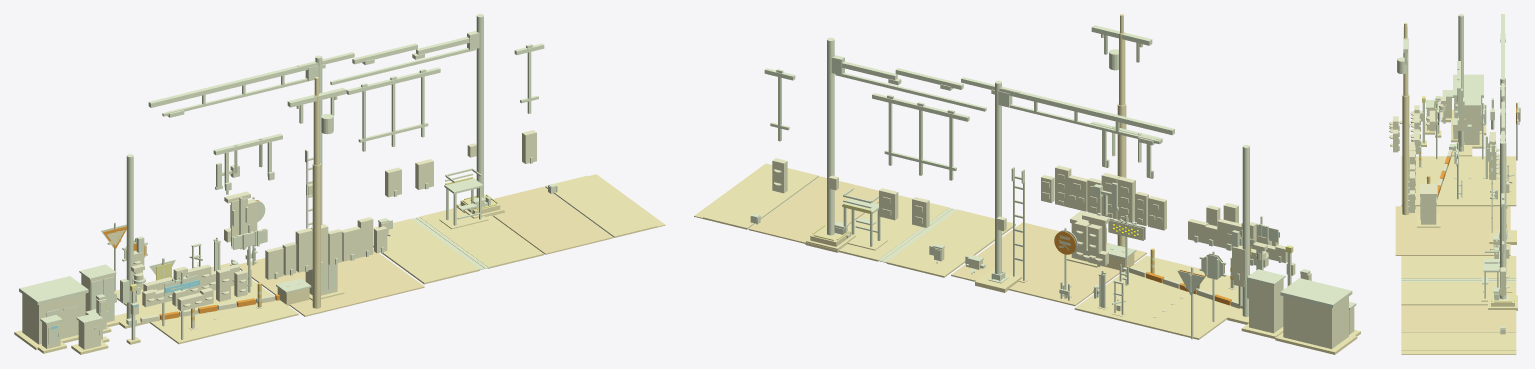
File: scene_night_retroreflection.glb
3 views of the same model, side by side, from view 1: azimuth 30°, elevation 25°; view 2: azimuth 150°, elevation 25°; view 3: azimuth 270°, elevation 25° (orthographic). The views are drawn at different scales.
Parts seen in each view (by area): view 1: base (×2), approach_lane, deck_left, deck_right, approach_slab, housing (×5), mast (×2), body (×2), shaft_lower, roof, truss_top, lower_brace (+3 smaller); view 2: base (×2), deck_left, mast (×3), approach_lane, approach_slab, body, deck_right, housing (×3), cabinet, roof, truss_top, lower_brace (+6 smaller); view 3: base (×2), approach_lane, deck_left, deck_right, approach_slab, mast (×3), shaft_lower, housing (×5), body (×3), base_pad (×4), cabinet, shoulder_strip (+15 smaller).
Part boxes in pixels (x1=…): base (×2): x1=114, y1=249, x2=424, y2=344; approach_lane: x1=493, y1=186, x2=612, y2=254; deck_left: x1=373, y1=218, x2=479, y2=284; deck_right: x1=419, y1=208, x2=543, y2=268; approach_slab: x1=545, y1=175, x2=656, y2=237; housing (×5): x1=265, y1=159, x2=433, y2=279; mast (×2): x1=126, y1=14, x2=483, y2=318; body (×2): x1=22, y1=293, x2=100, y2=349; shaft_lower: x1=312, y1=163, x2=320, y2=308; roof: x1=19, y1=276, x2=88, y2=304; truss_top: x1=148, y1=63, x2=317, y2=107; lower_brace: x1=330, y1=48, x2=475, y2=85; base (×2): x1=951, y1=222, x2=1238, y2=339; deck_left: x1=886, y1=209, x2=1015, y2=277; mast (×3): x1=827, y1=37, x2=1249, y2=316; approach_lane: x1=749, y1=176, x2=878, y2=243; approach_slab: x1=703, y1=167, x2=818, y2=229; body: x1=1283, y1=296, x2=1348, y2=348; deck_right: x1=838, y1=195, x2=949, y2=261; housing (×3): x1=1068, y1=175, x2=1166, y2=230; cabinet: x1=1249, y1=279, x2=1283, y2=333; roof: x1=1280, y1=278, x2=1352, y2=307; truss_top: x1=999, y1=88, x2=1174, y2=135; lower_brace: x1=835, y1=73, x2=986, y2=111; base (×2): x1=1395, y1=156, x2=1516, y2=255; approach_lane: x1=1401, y1=305, x2=1516, y2=332; deck_left: x1=1401, y1=256, x2=1516, y2=278; deck_right: x1=1401, y1=282, x2=1516, y2=305; approach_slab: x1=1401, y1=333, x2=1516, y2=350; mast (×3): x1=1458, y1=14, x2=1506, y2=299; shaft_lower: x1=1402, y1=94, x2=1409, y2=215; housing (×5): x1=1393, y1=110, x2=1505, y2=295; body (×3): x1=1421, y1=98, x2=1482, y2=224; base_pad (×4): x1=1451, y1=146, x2=1517, y2=308; cabinet: x1=1464, y1=106, x2=1479, y2=144; shoulder_strip: x1=1401, y1=350, x2=1516, y2=354.
Size of the model in its own units: 20.04 by 7.36 by 4.58.
